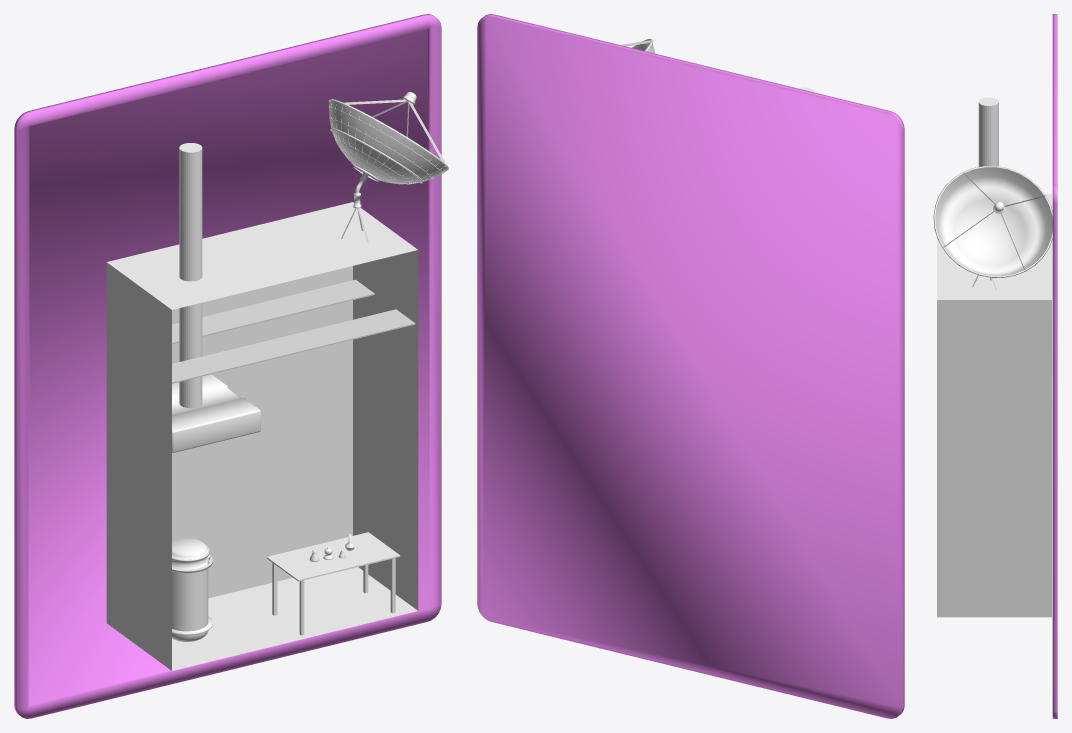
3 views of the same model, side by side, from view 1: azimuth 30°, elevation 25°; view 2: azimuth 150°, elevation 25°; view 3: azimuth 270°, elevation 25° (orthographic). The views are drawn at different scales.
Visible parts, largest first — view 1: Plane, Cube, Plane.002, Cylinder.001, Sphere, Cylinder, Cube.001; view 2: Plane; view 3: Cube, Sphere, Plane, Cylinder.
Boxes of the visible parts, x1,y1,x2,y2 form: Plane: (14, 14, 441, 718); Cube: (106, 202, 418, 670); Plane.002: (172, 279, 415, 383); Cylinder.001: (172, 374, 260, 641); Sphere: (328, 92, 448, 242); Cylinder: (179, 143, 202, 408); Cube.001: (266, 532, 400, 635); Plane: (477, 14, 904, 718); Cube: (937, 194, 1051, 617); Sphere: (933, 166, 1052, 290); Plane: (1052, 14, 1057, 718); Cylinder: (978, 97, 998, 166).
Bounding box in the file's own units: 3.45 × 4.7 × 0.9931.
